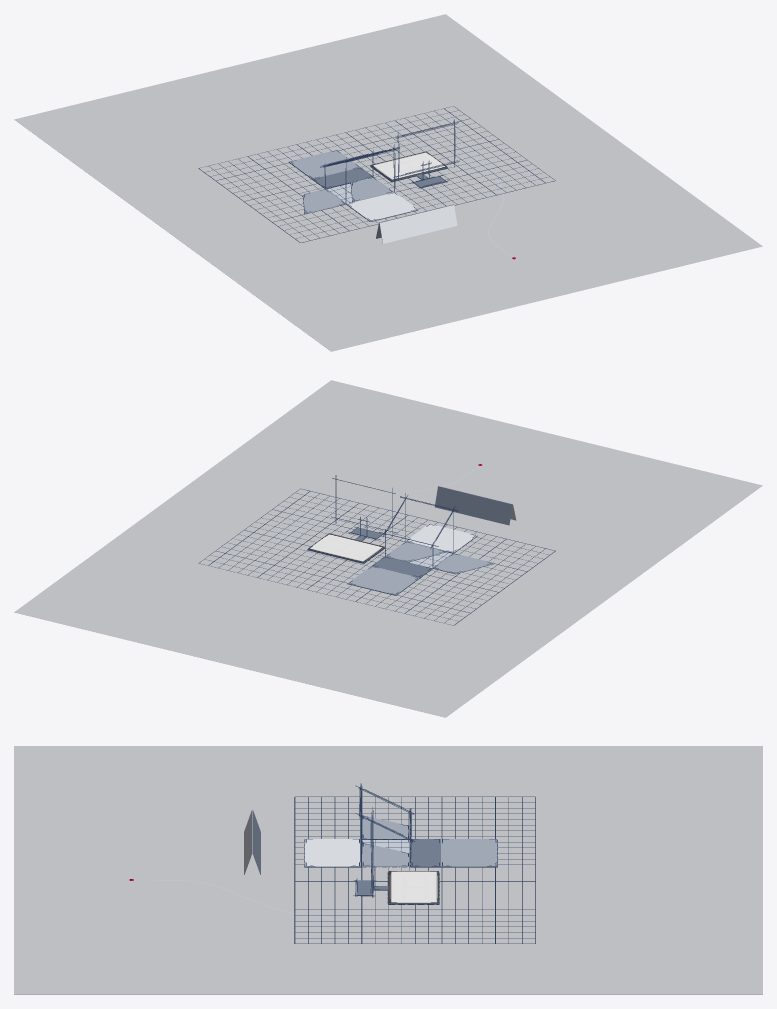
The model's file is modernisierung-breit.glb.
3 renders of one model, top to bottom at view 1: azimuth 30°, elevation 25°; view 2: azimuth 150°, elevation 25°; view 3: azimuth 270°, elevation 25°, orthographic. The views are drawn at different scales.
Parts seen in each view (by area): view 1: Bogen, Bau_Welt, druck:titel, Flach_Schirm, druck:lesestelle, CRT_Deckel, CRT_Links, CRT_Rechts, CRT_Rueck; view 2: Bogen, Bau_Welt, Titel_Stuetze, Flach_Schirm, CRT_Deckel, druck:lesestelle, CRT_Rechts, CRT_Links, CRT_Rueck; view 3: Bogen, Bau_Welt, Flach_Schirm, CRT_Deckel, druck:lesestelle, CRT_Rechts, CRT_Links, CRT_Rueck.
Part boxes in pixels (x1,y1,x2,y2): Bogen: [14, 14, 762, 351]; Bau_Welt: [198, 106, 555, 242]; druck:titel: [379, 205, 457, 243]; Flach_Schirm: [370, 151, 447, 181]; druck:lesestelle: [347, 192, 418, 221]; CRT_Deckel: [289, 150, 360, 179]; CRT_Links: [303, 189, 345, 214]; CRT_Rechts: [351, 177, 393, 202]; CRT_Rueck: [312, 167, 373, 188]; Bogen: [14, 380, 762, 717]; Bau_Welt: [198, 475, 555, 625]; Titel_Stuetze: [434, 486, 512, 525]; Flach_Schirm: [307, 533, 384, 562]; CRT_Deckel: [347, 566, 419, 595]; druck:lesestelle: [406, 523, 476, 552]; CRT_Rechts: [385, 541, 446, 562]; CRT_Links: [433, 553, 494, 573]; CRT_Rueck: [372, 556, 432, 577]; Bogen: [14, 746, 762, 994]; Bau_Welt: [294, 783, 535, 943]; Flach_Schirm: [388, 871, 438, 903]; CRT_Deckel: [441, 839, 497, 867]; druck:lesestelle: [304, 839, 360, 866]; CRT_Rechts: [362, 843, 409, 866]; CRT_Links: [362, 815, 409, 839]; CRT_Rueck: [410, 839, 440, 867].
Size of what is drawn, in the model's own units: 22 by 2.95 by 28.
Materials: 16 (5 with a texture image).
